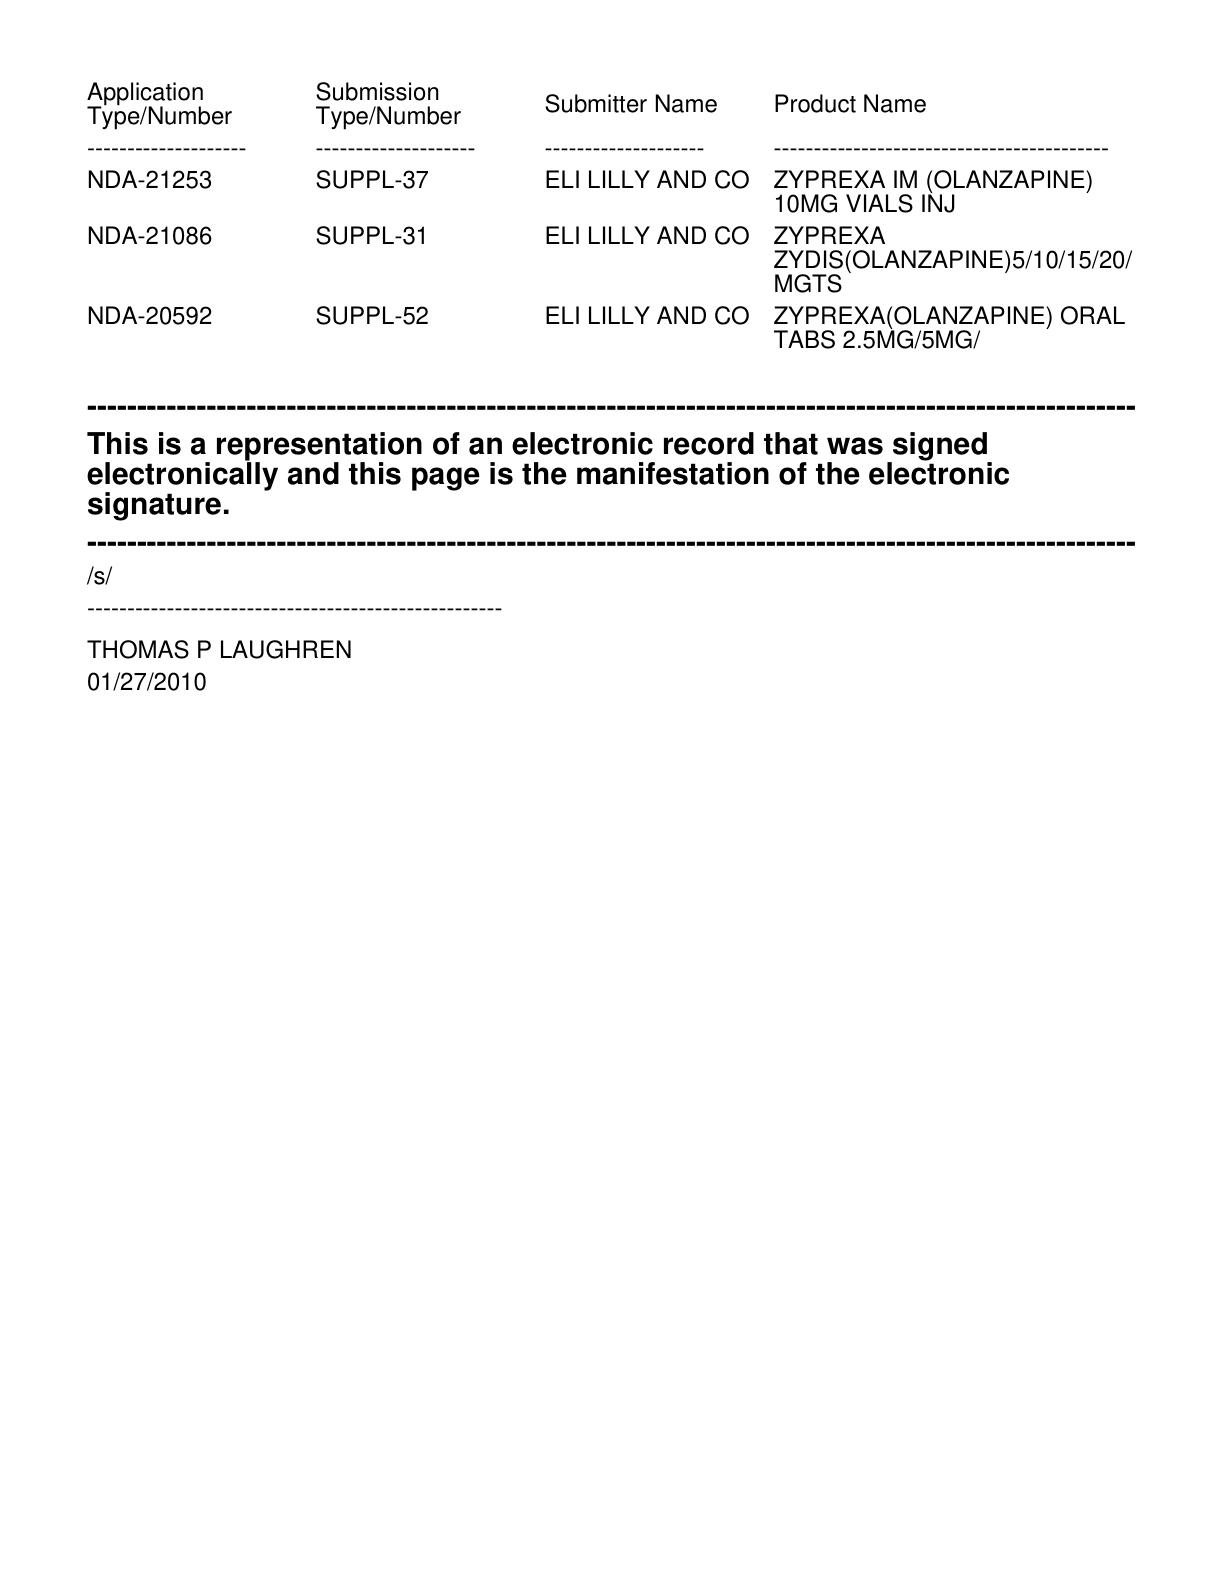nolines: (85, 77, 1131, 354)
